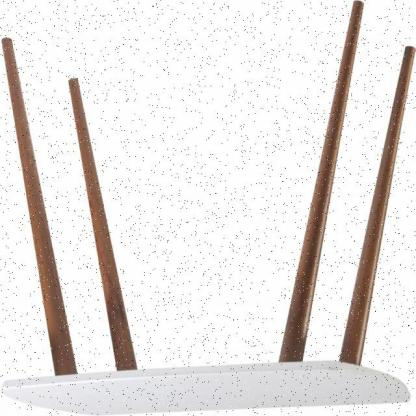Table: (0, 7, 416, 416)
